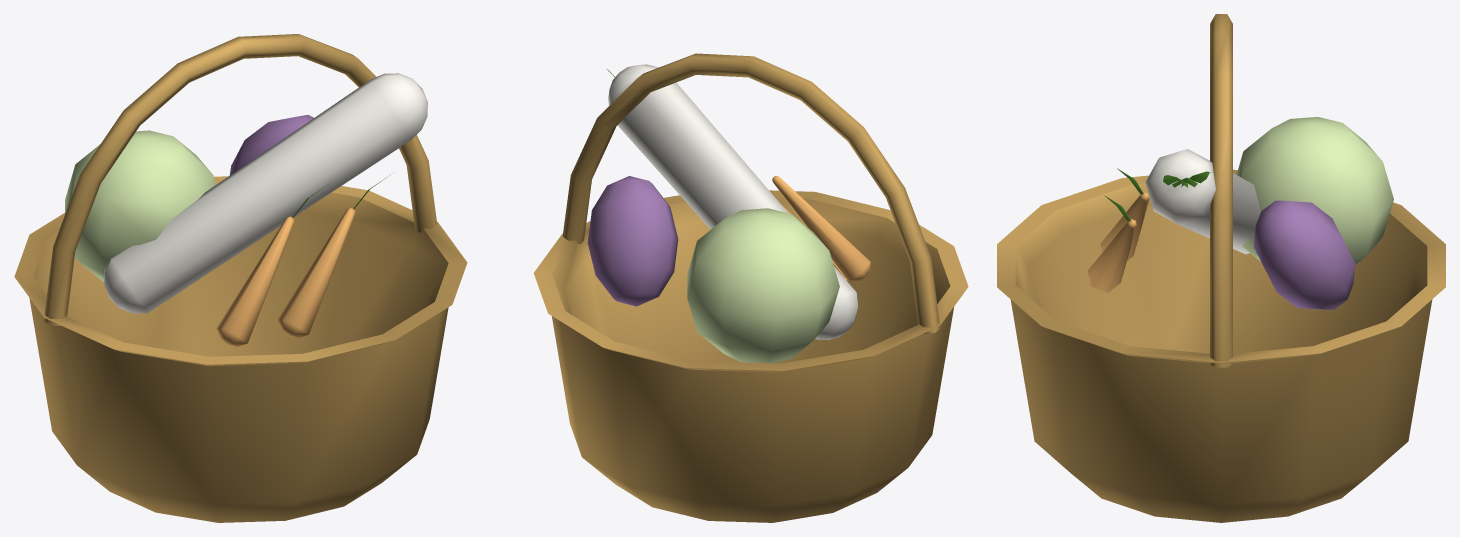
The model's file is basket.glb.
3 views of the same model, side by side, from view 1: azimuth 30°, elevation 25°; view 2: azimuth 150°, elevation 25°; view 3: azimuth 270°, elevation 25° (orthographic). The views are drawn at different scales.
Parts seen in each view (by area): view 1: Basket Straw, Basket Produce; view 2: Basket Straw, Basket Produce; view 3: Basket Straw, Basket Produce, Basket Leaves.
Boxes of the visible parts, box(x1,y1,x2,y2) form: Basket Straw: box(14, 34, 467, 522); Basket Produce: box(65, 73, 427, 346); Basket Straw: box(533, 53, 968, 522); Basket Produce: box(587, 64, 870, 363); Basket Straw: box(997, 14, 1445, 522); Basket Produce: box(1087, 117, 1393, 309); Basket Leaves: box(1104, 168, 1218, 221).
Bounding box in the file's own units: 0.3953 × 0.3678 × 0.351.
